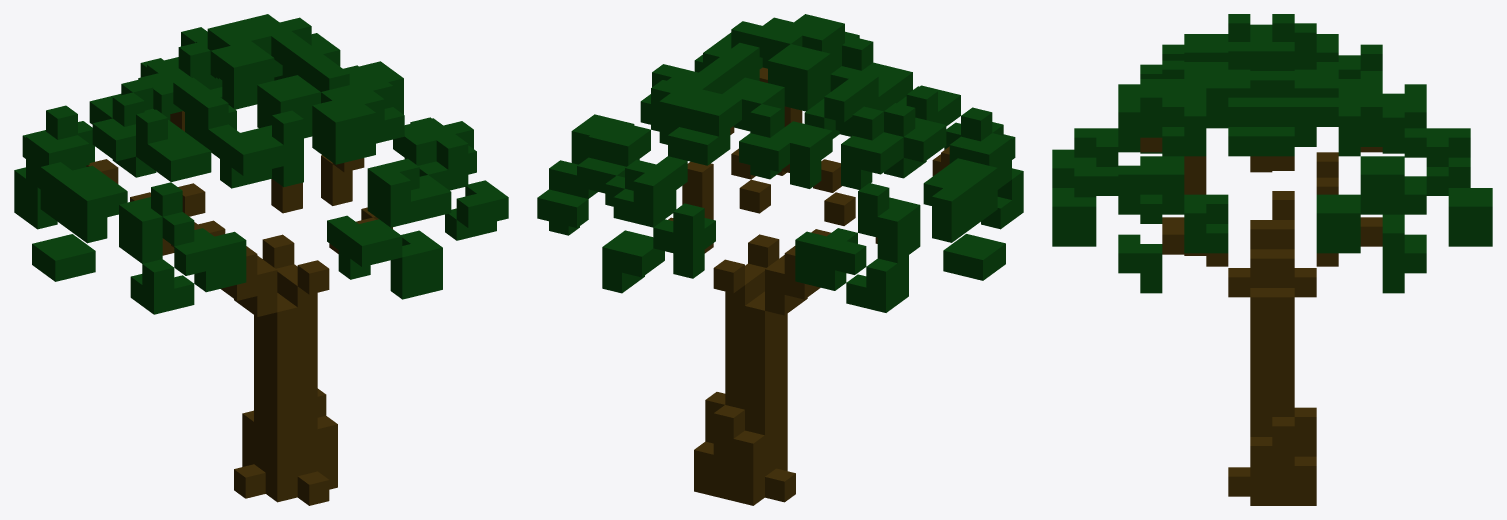
The model's file is TreeLOD-3-Tree3_3.obj.
3 renders of one model, left to right at view 1: azimuth 30°, elevation 25°; view 2: azimuth 150°, elevation 25°; view 3: azimuth 270°, elevation 25°, orthographic. The views are drawn at different scales.
Visible parts, largest first — view 1: Tree3_3; view 2: Tree3_3; view 3: Tree3_3.
Part boxes in pixels (x1,y1,x2,y2): Tree3_3: (14, 14, 508, 505); Tree3_3: (537, 14, 1023, 505); Tree3_3: (1052, 14, 1492, 505).
Size of the model in its own units: 7.6 by 8 by 8.
1 material, 1 textured.
